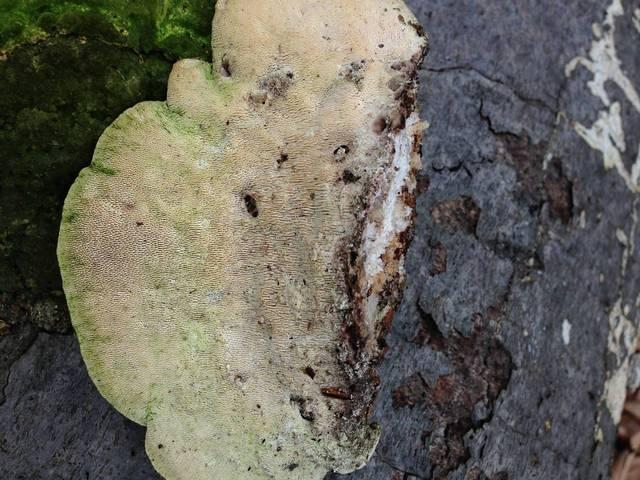Non-edible Mushroom: (54, 0, 431, 479)
